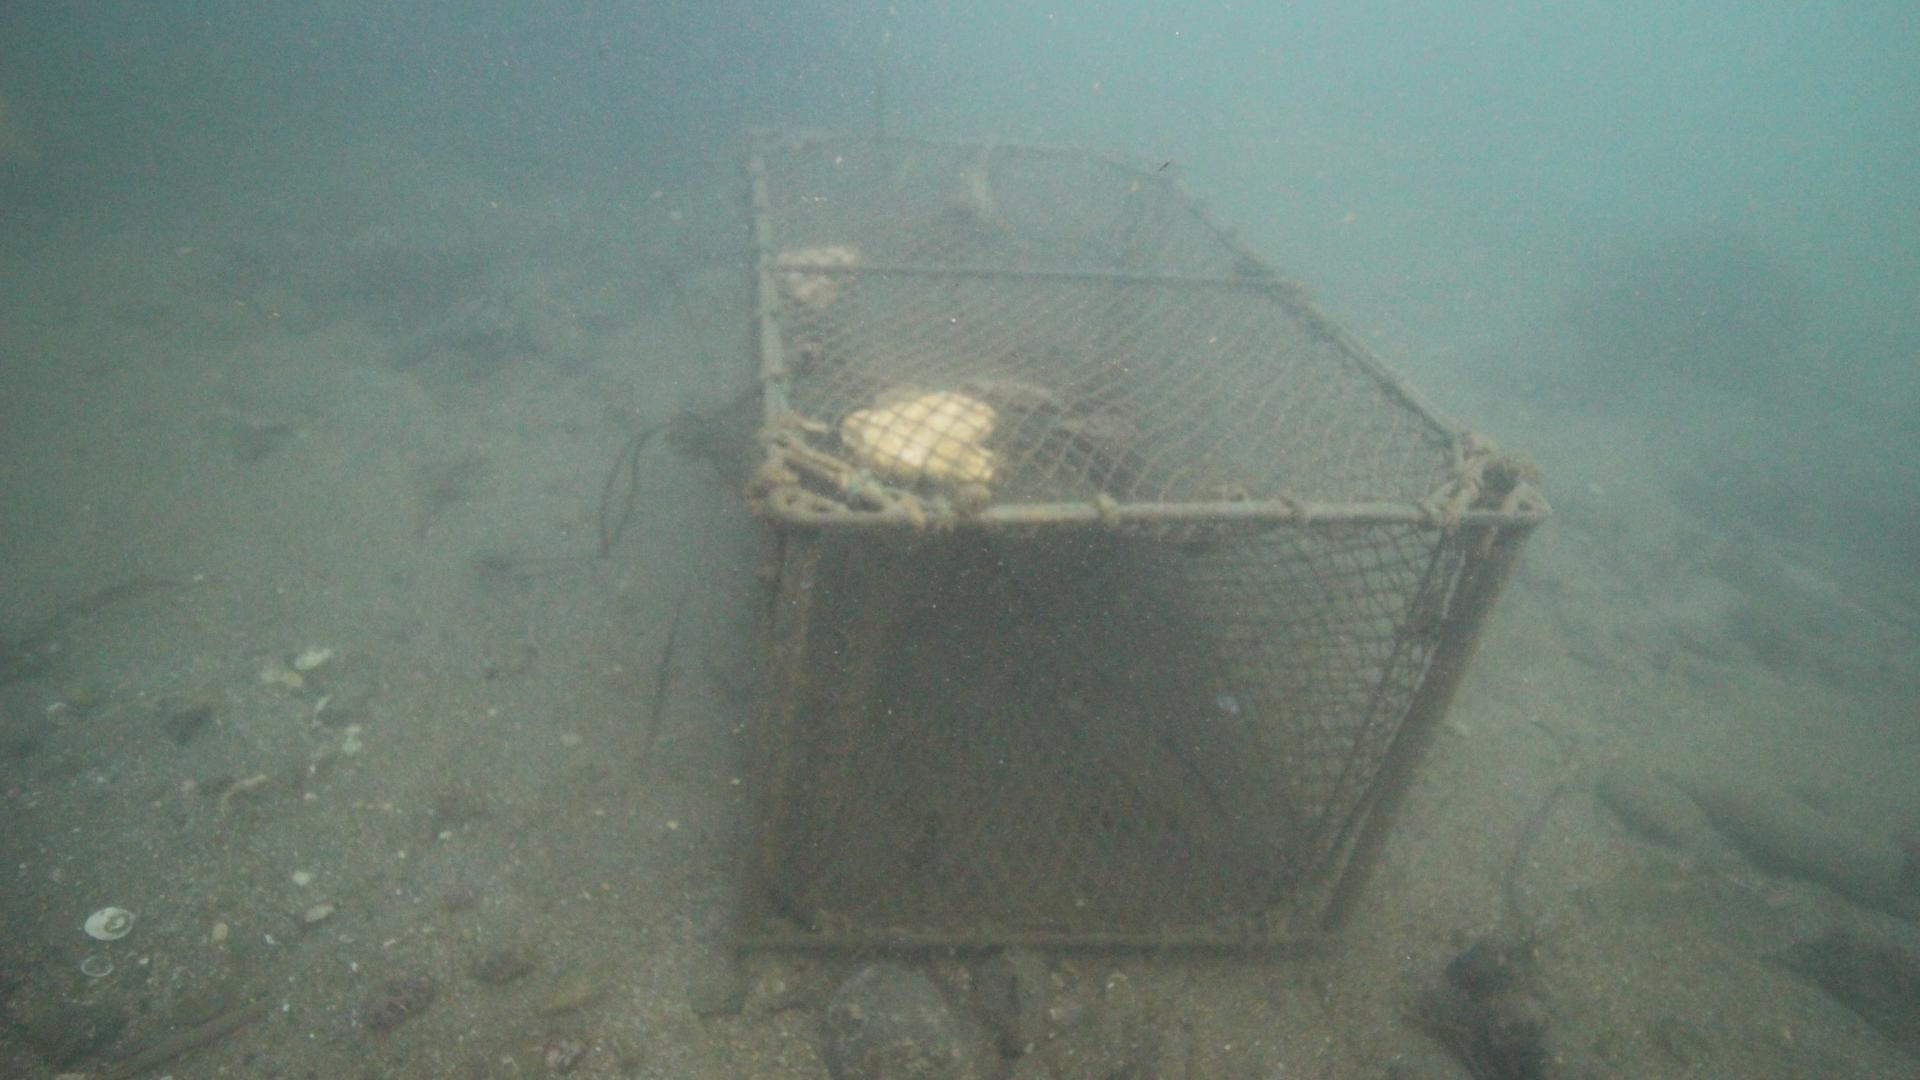rectangular fish trap: (711, 124, 1553, 963)
